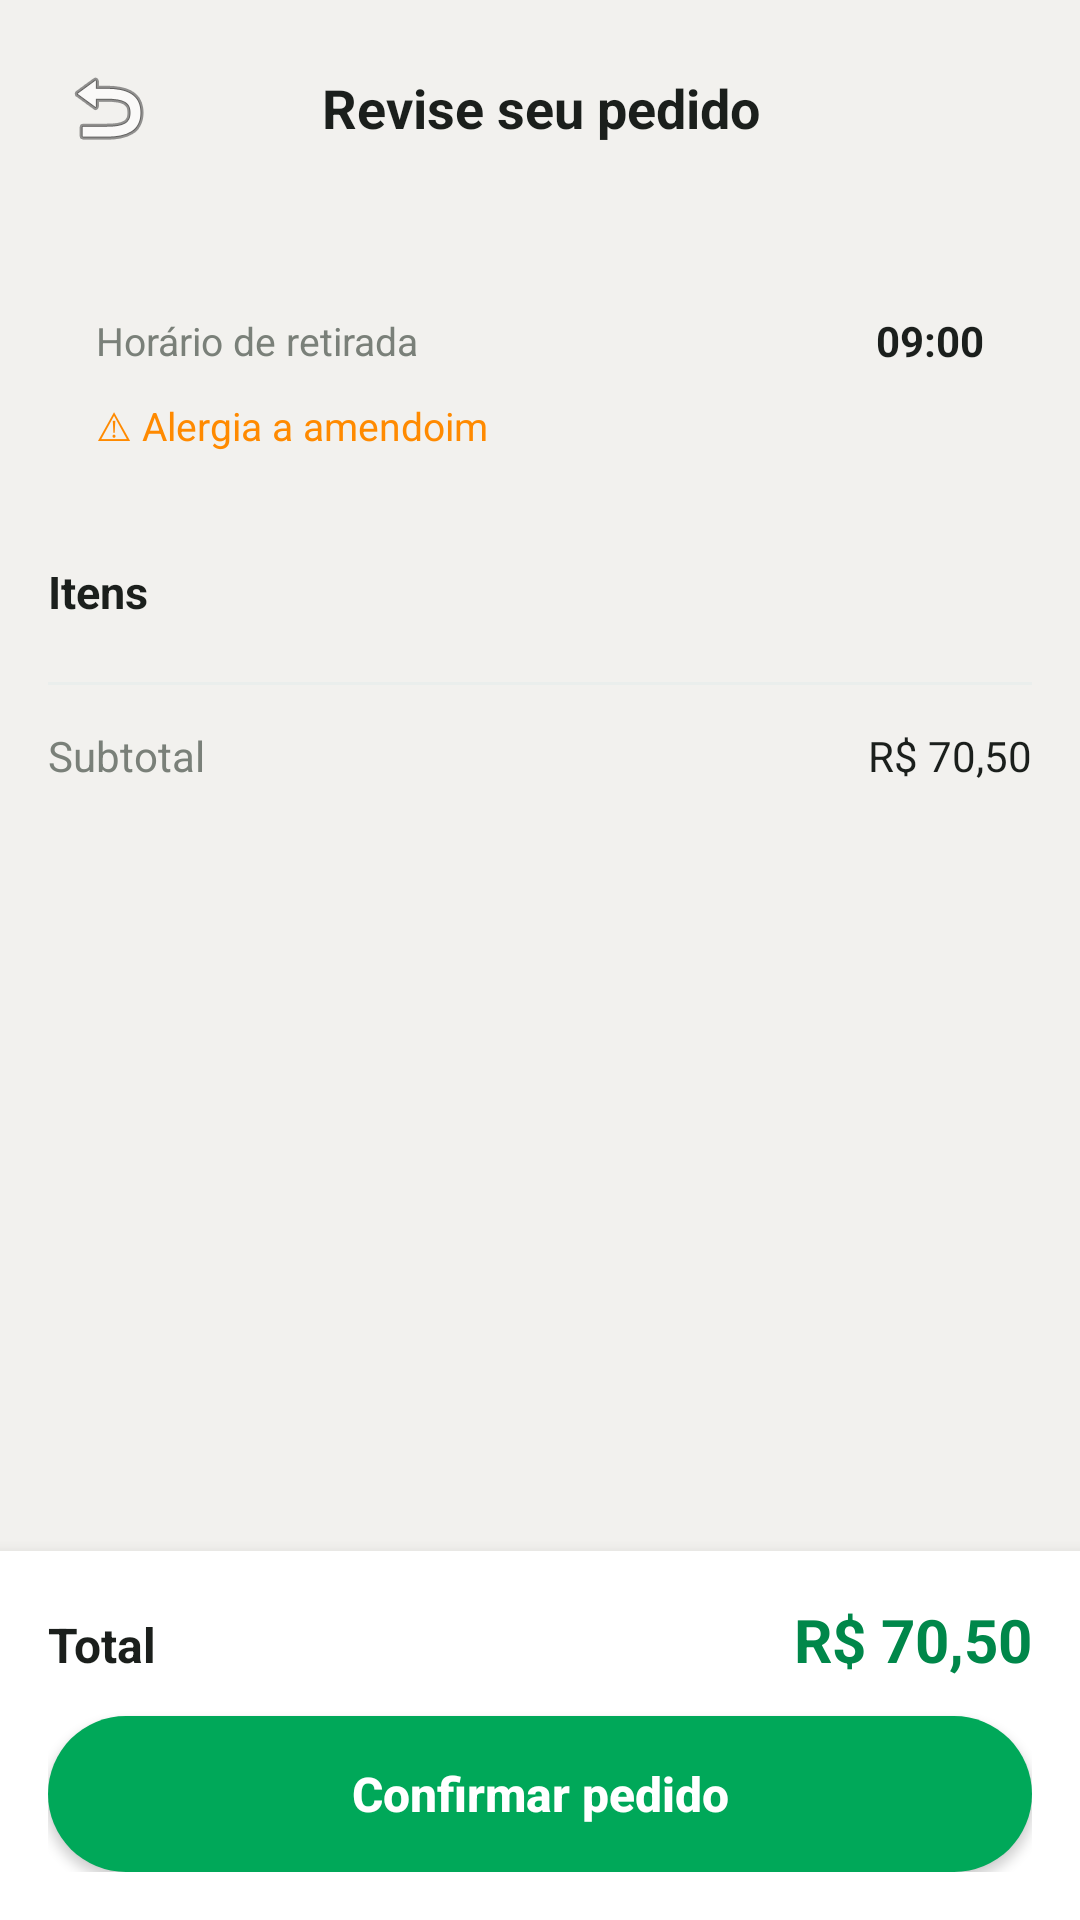

Icon click points for this 1080px x 1920px phone screenshot, format point (x, y):
Voltar: point (109, 108)
